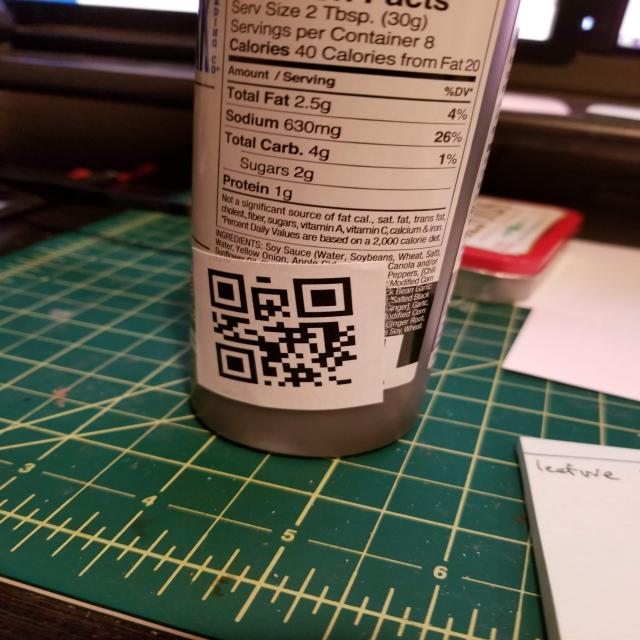QR_CODE: (196, 260, 380, 400)
